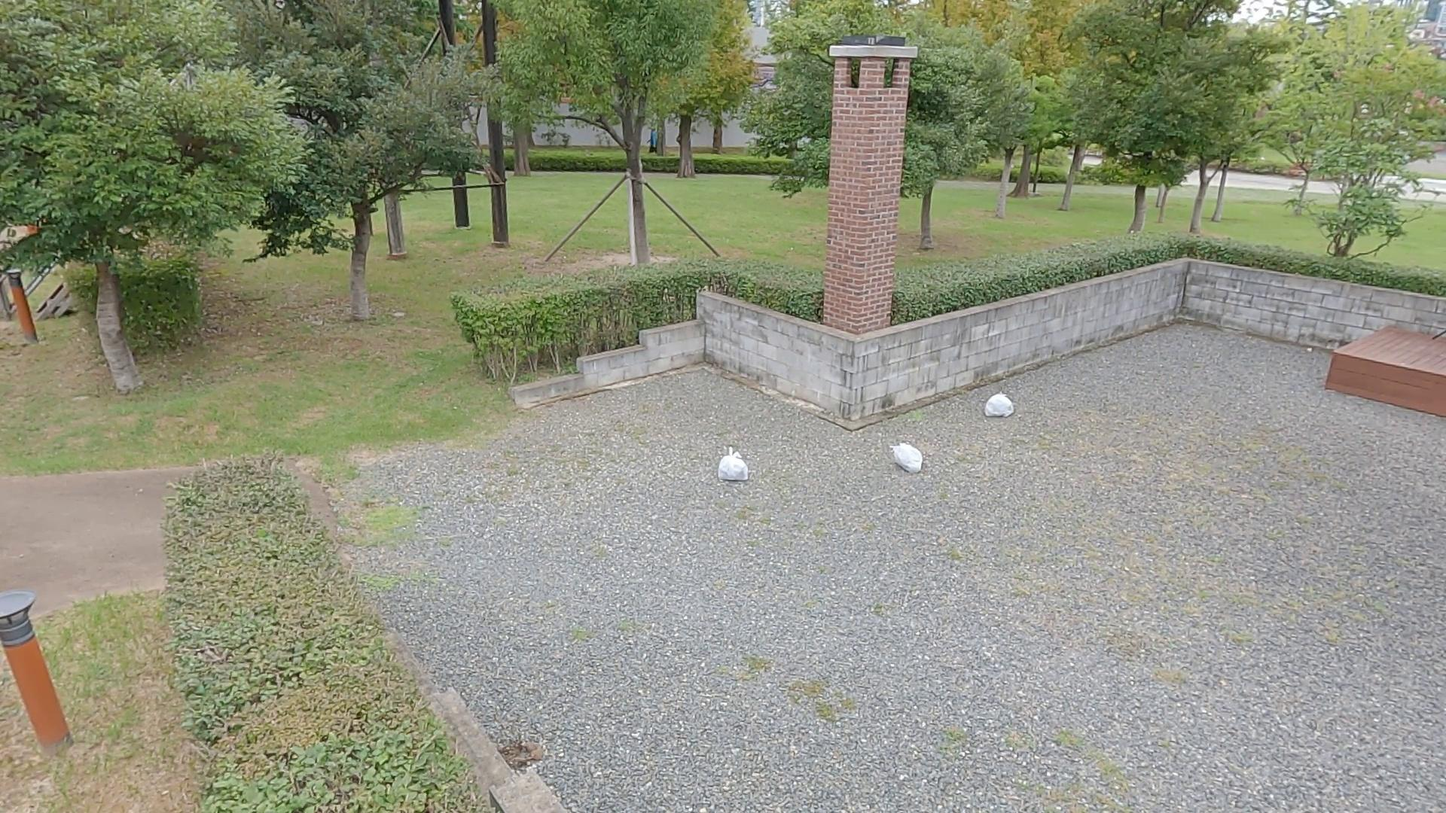trash: (706, 444, 752, 491), (880, 437, 924, 482), (979, 384, 1022, 428)
